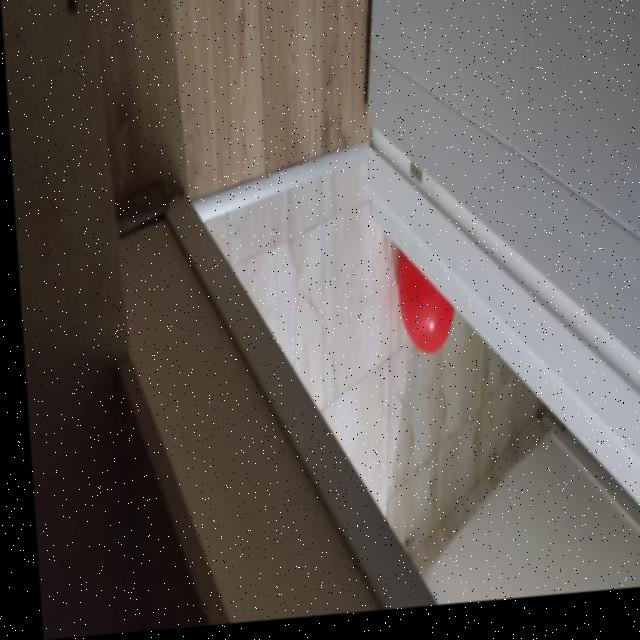balloon: (375, 268, 450, 375)
